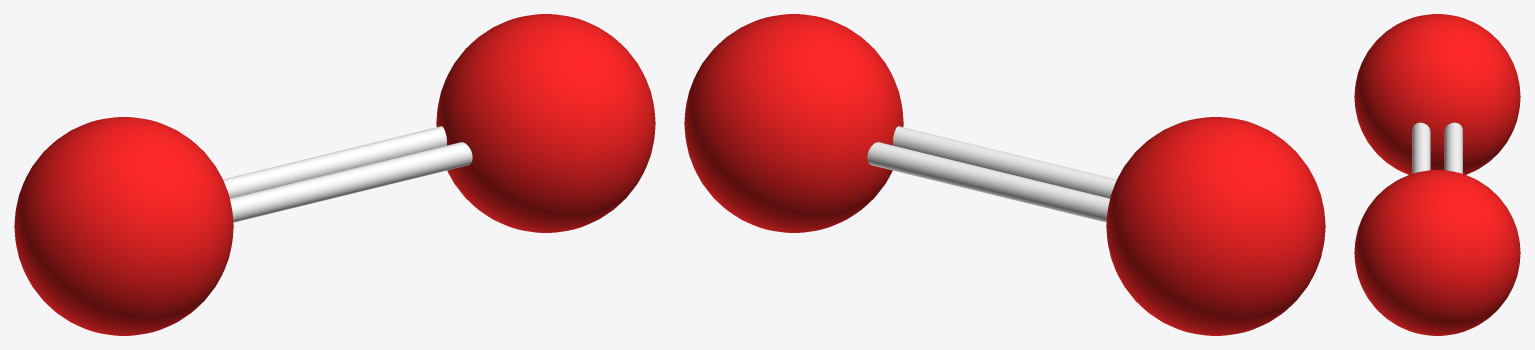
File: oxygen.fbx
3 renders of one model, left to right at view 1: azimuth 30°, elevation 25°; view 2: azimuth 150°, elevation 25°; view 3: azimuth 270°, elevation 25°, orthographic. The views are drawn at different scales.
Parts seen in each view (by area): view 1: oxygen; view 2: oxygen; view 3: oxygen.
Part boxes in pixels (<box>): oxygen: <box>14,14,655,335</box>; oxygen: <box>684,14,1325,335</box>; oxygen: <box>1354,14,1520,335</box>.
Bounding box in the file's own units: 116 × 36 × 36.
